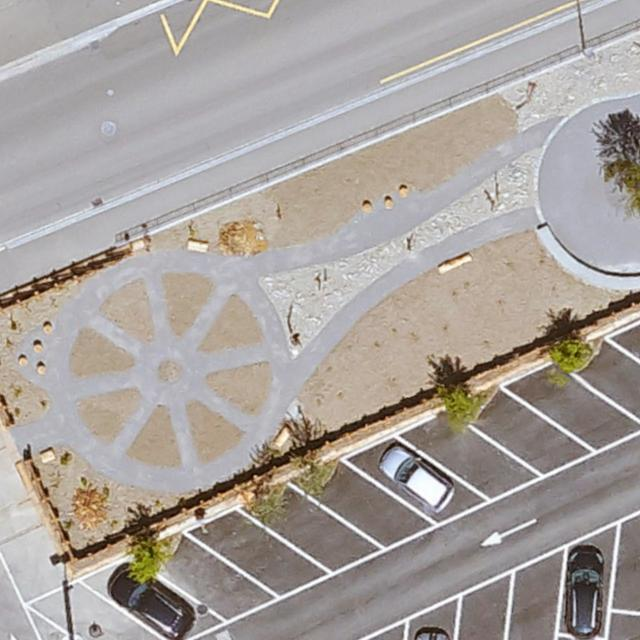tree: (600, 157, 640, 219), (439, 386, 480, 424), (548, 338, 593, 372), (248, 489, 285, 527), (130, 542, 169, 577), (302, 467, 337, 496)
